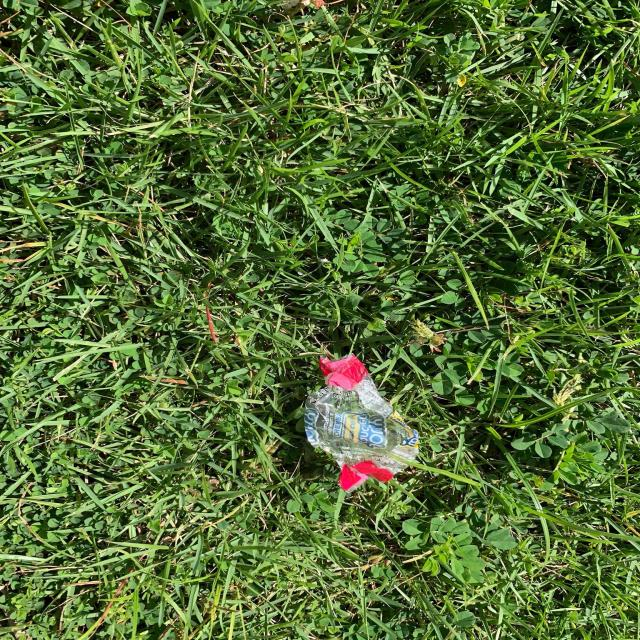litter: (305, 353, 420, 493)
